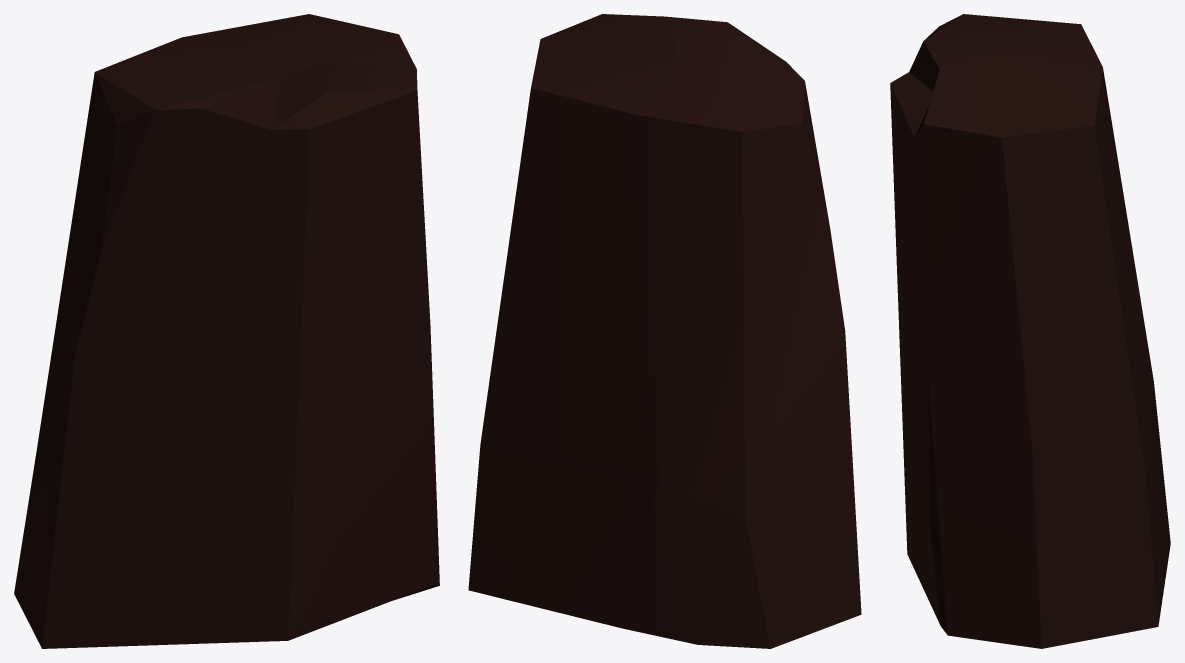
File: SM_Venus_Rock_01.fbx
The picture shows the model from 3 angles, left to right: view 1: azimuth 30°, elevation 25°; view 2: azimuth 150°, elevation 25°; view 3: azimuth 270°, elevation 25°; orthographic projection. The views are drawn at different scales.
Parts seen in each view (by area): view 1: SM_Venus_Rock_01; view 2: SM_Venus_Rock_01; view 3: SM_Venus_Rock_01.
Part boxes in pixels (x1=…): SM_Venus_Rock_01: x1=14, y1=14, x2=439, y2=648; SM_Venus_Rock_01: x1=468, y1=14, x2=861, y2=648; SM_Venus_Rock_01: x1=890, y1=14, x2=1170, y2=648.
Size of the model in its own units: 159 by 214 by 105.
